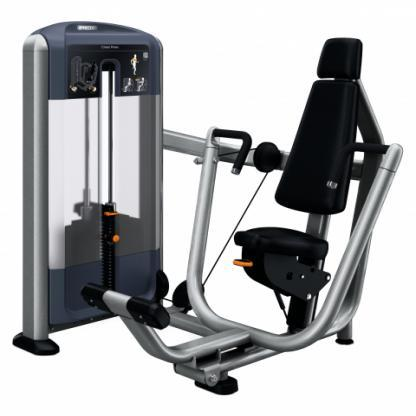Chest Press machine: (11, 16, 406, 398)
